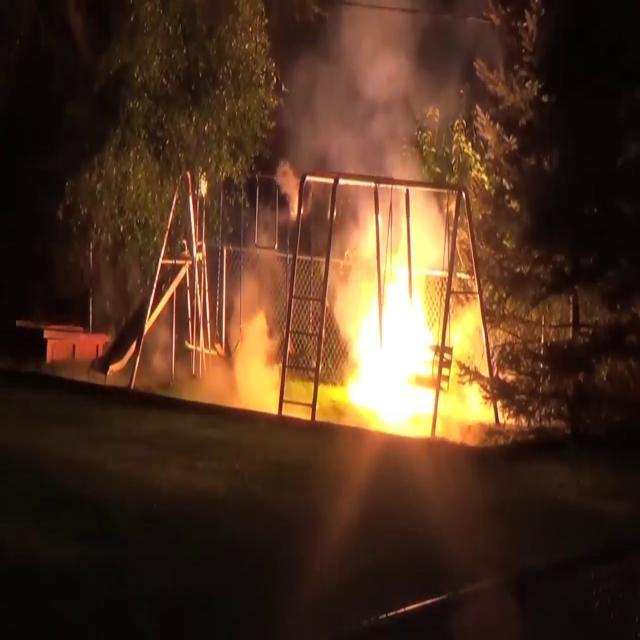Fire: (338, 198, 454, 438)
Smoke: (273, 4, 461, 178), (212, 220, 300, 407)
